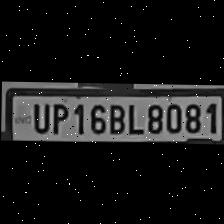0: (162, 100, 182, 132)
1: (66, 100, 86, 133), (202, 98, 220, 133)
6: (85, 99, 105, 132)
8: (142, 99, 164, 132), (180, 99, 202, 132)
B: (105, 99, 125, 133)
L: (122, 100, 142, 134)
P: (48, 100, 68, 132)
U: (27, 100, 49, 132)
